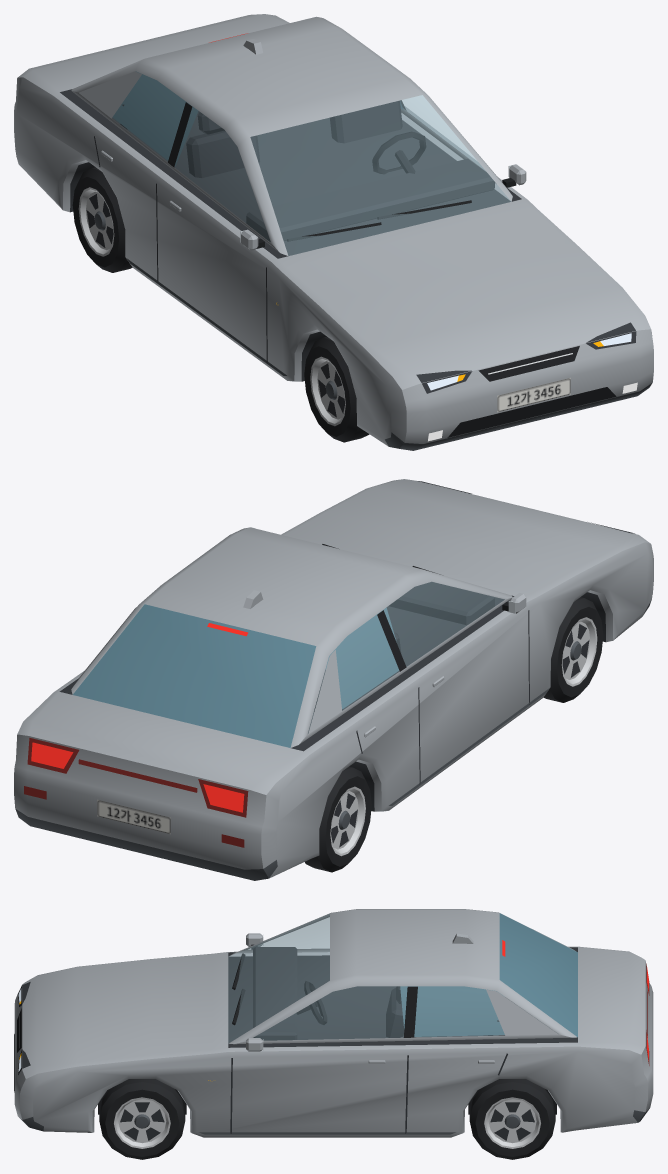
Rendered from SC_Veh_Car_Sedan_Silver.gltf.
3 renders of one model, top to bottom at view 1: azimuth 30°, elevation 25°; view 2: azimuth 150°, elevation 25°; view 3: azimuth 270°, elevation 25°, orthographic. The views are drawn at different scales.
Visible parts, largest first — view 1: SC_Veh_Car_Sedan_Silver; view 2: SC_Veh_Car_Sedan_Silver; view 3: SC_Veh_Car_Sedan_Silver.
Part boxes in pixels (box(x1,y1,x2,y2)): SC_Veh_Car_Sedan_Silver: box(14, 14, 653, 450); SC_Veh_Car_Sedan_Silver: box(14, 479, 653, 880); SC_Veh_Car_Sedan_Silver: box(14, 909, 653, 1159).
Bounding box in the file's own units: 1.97 × 1.51 × 4.91.
Materials: 4 (4 with a texture image).
